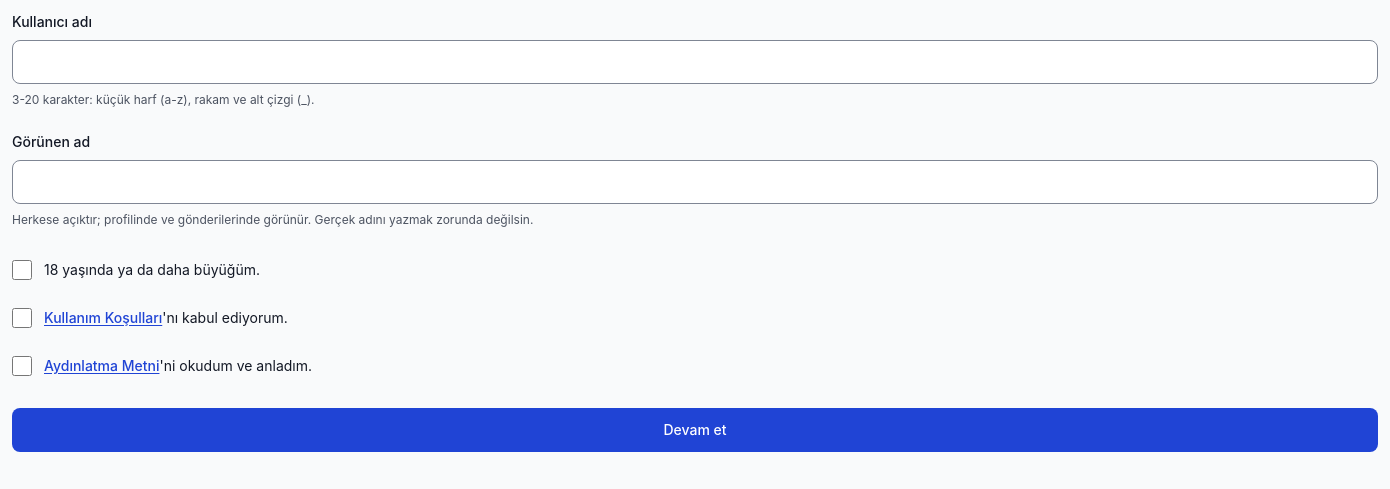
Test: OnboardingForm › ACCOUNT_EMAIL_CONFLICT → takılı form yerine açık mesaj + destek iletişimi
Type "ayse_k" into the field labelled "Kullanıcı adı" at (695, 62), box [12,40,1378,84]
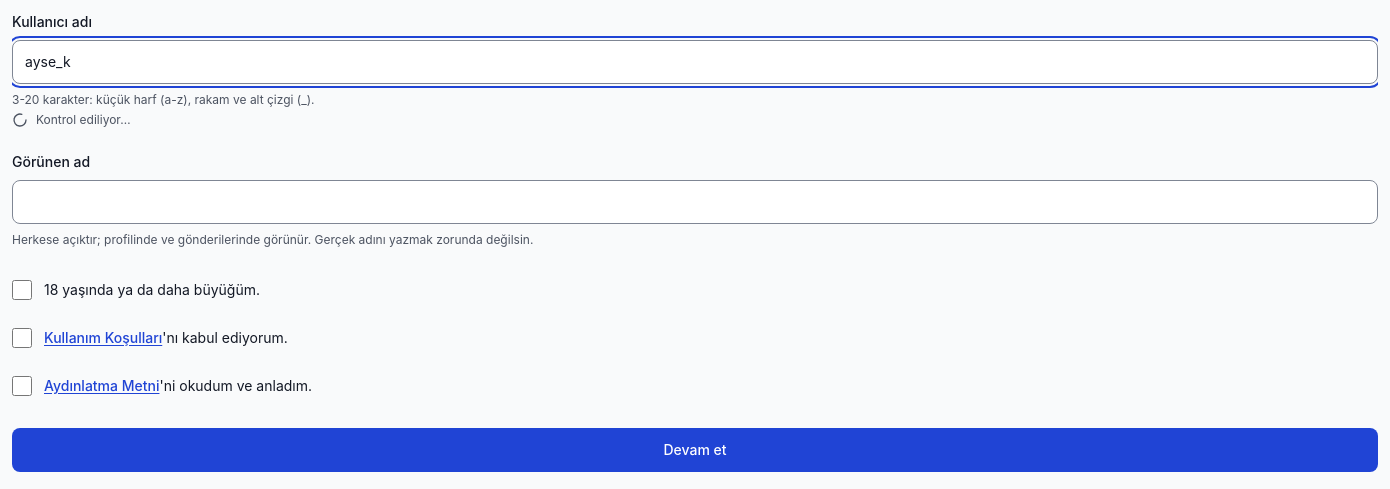
Type "Ayşe" into the field labelled "Görünen ad" at (695, 202), box [12,180,1378,224]
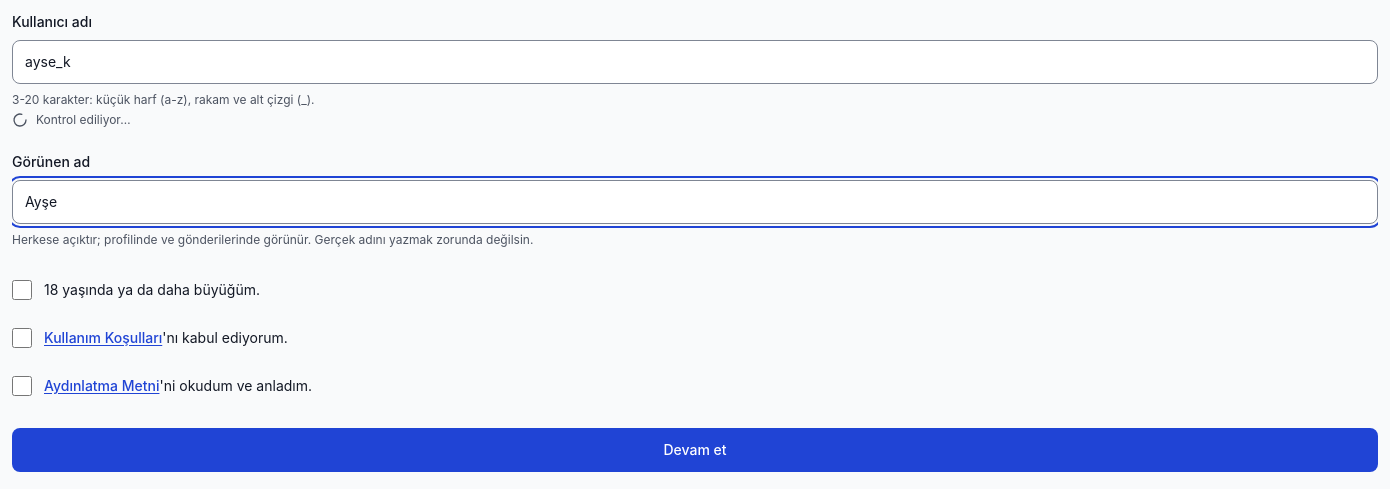
Click the checkbox labelled "18 yaşında ya da daha büyüğüm." at (22, 290), box [12,280,32,300]
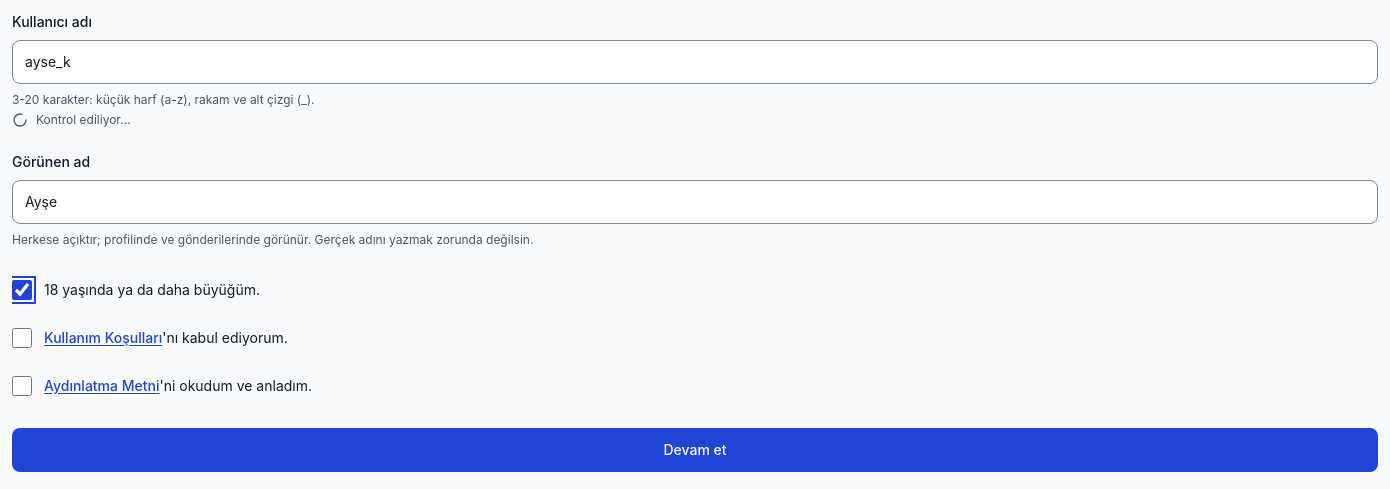
Click the checkbox labelled "Kullanım Koşulları 'nı kabul ediyorum." at (22, 338), box [12,328,32,348]
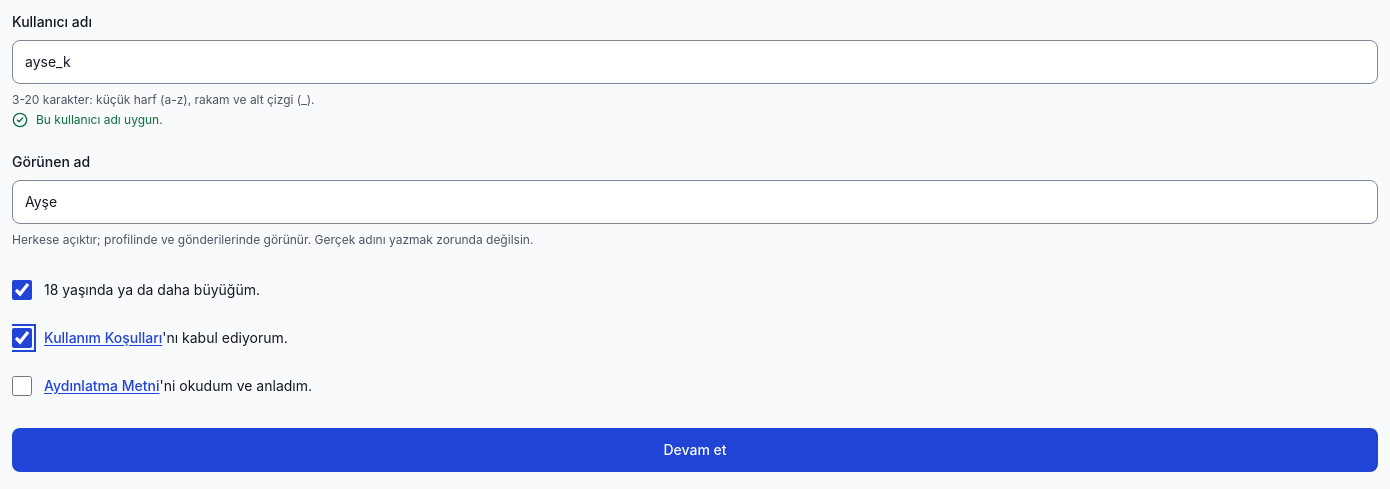
Click the checkbox labelled "Aydınlatma Metni 'ni okudum ve anladım." at (22, 386), box [12,376,32,396]
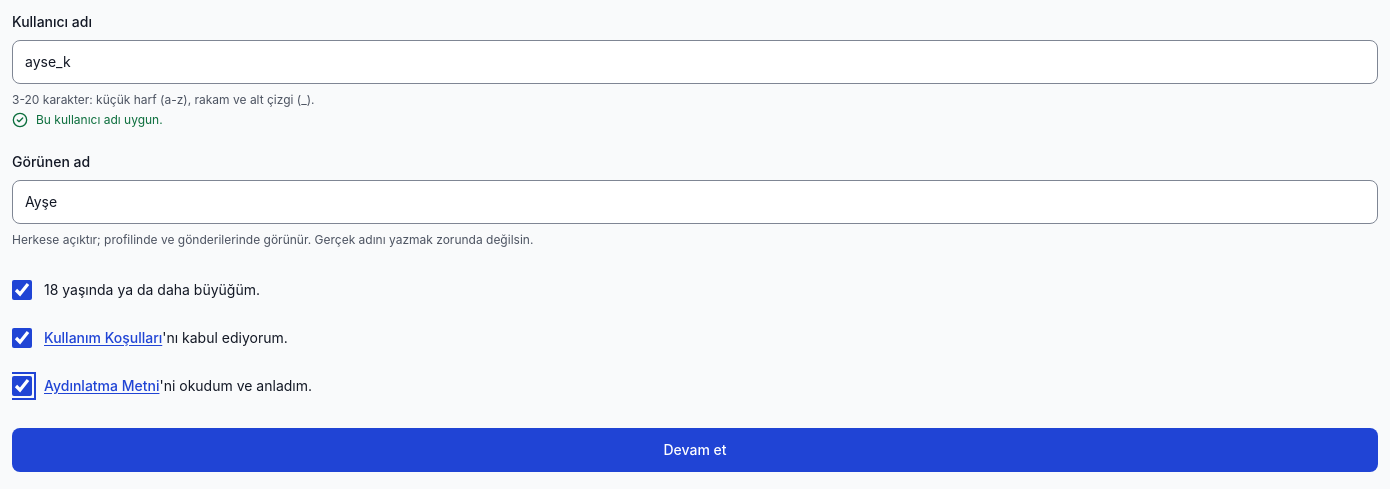
Click the button with test id "onboarding-submit" at (695, 450), box [12,428,1378,472]
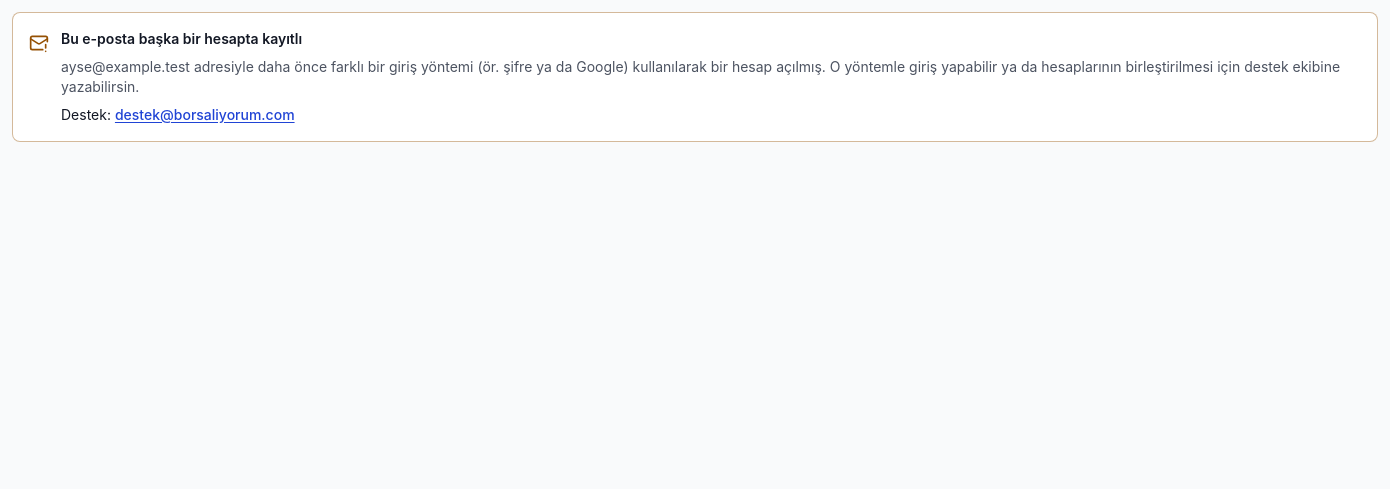
Now the message with test id "email-conflict-notice" shows "Bu e-posta başka bir hesapta kayıtlı", box [61,30,302,47]
Now the message with test id "email-conflict-notice" shows "ayse@example.test", box [61,58,1340,95]
Now the button with test id "onboarding-submit" is gone
